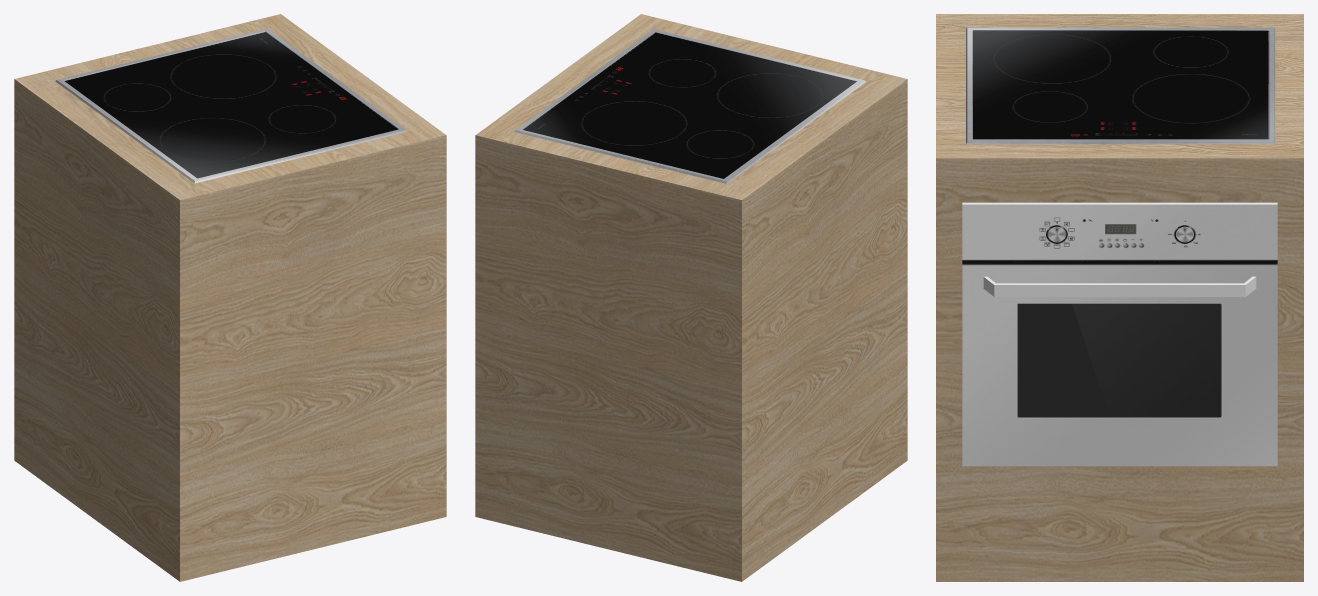
File: 7A2DDE5B-E97E-4236-83F1-096FF6C0D475.dae
The picture shows the model from 3 angles, left to right: view 1: azimuth 30°, elevation 25°; view 2: azimuth 150°, elevation 25°; view 3: azimuth 270°, elevation 25°; orthographic projection. The views are drawn at different scales.
Visible parts, largest first — view 1: Cook_top_electro+oven; view 2: Cook_top_electro+oven; view 3: Cook_top_electro+oven.
Part boxes in pixels (x1,y1,x2,y2): Cook_top_electro+oven: (14,14,446,581); Cook_top_electro+oven: (475,14,907,581); Cook_top_electro+oven: (936,14,1303,581).
Bounding box in the file's own units: 0.6972 × 0.7 × 0.8943.
5 materials, 4 textured.
